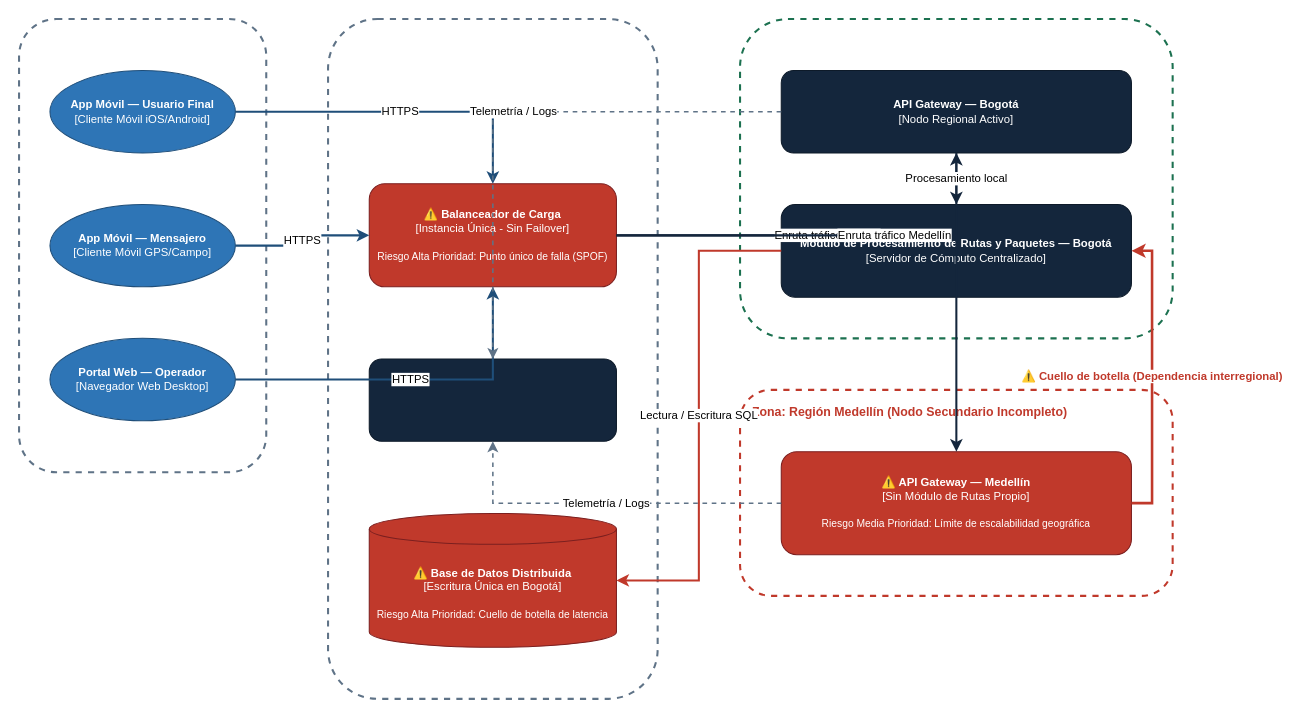
The diagram is 1300 pixels wide and 717 high, and some of its shapes have lost their labels. Each missing label, with the box of its shape:
Servicio de Monitoreo y Alertas [Servidor Central de Logs]: (368, 358, 616, 441)
Zona: Borde / Global (Infraestructura Compartida): (327, 18, 658, 699)
Zona: Clientes (Puntos de Entrada): (18, 18, 267, 473)
Zona: Región Bogotá (Nodo Principal): (739, 18, 1173, 339)
